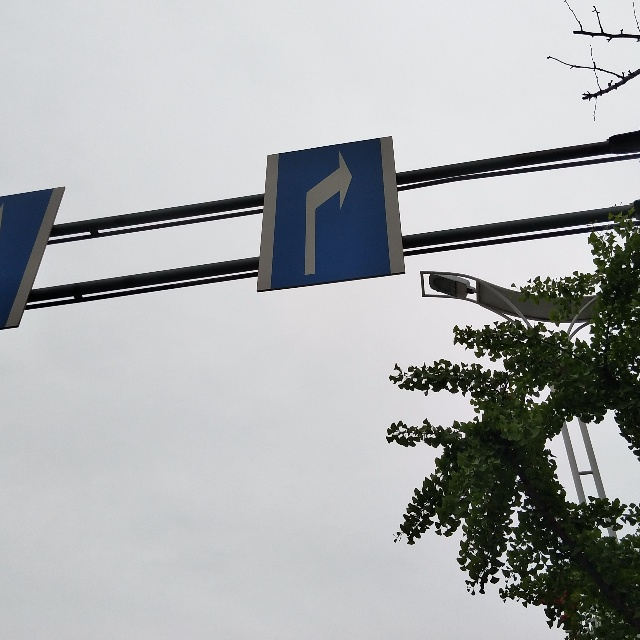right: (274, 153, 390, 280)
